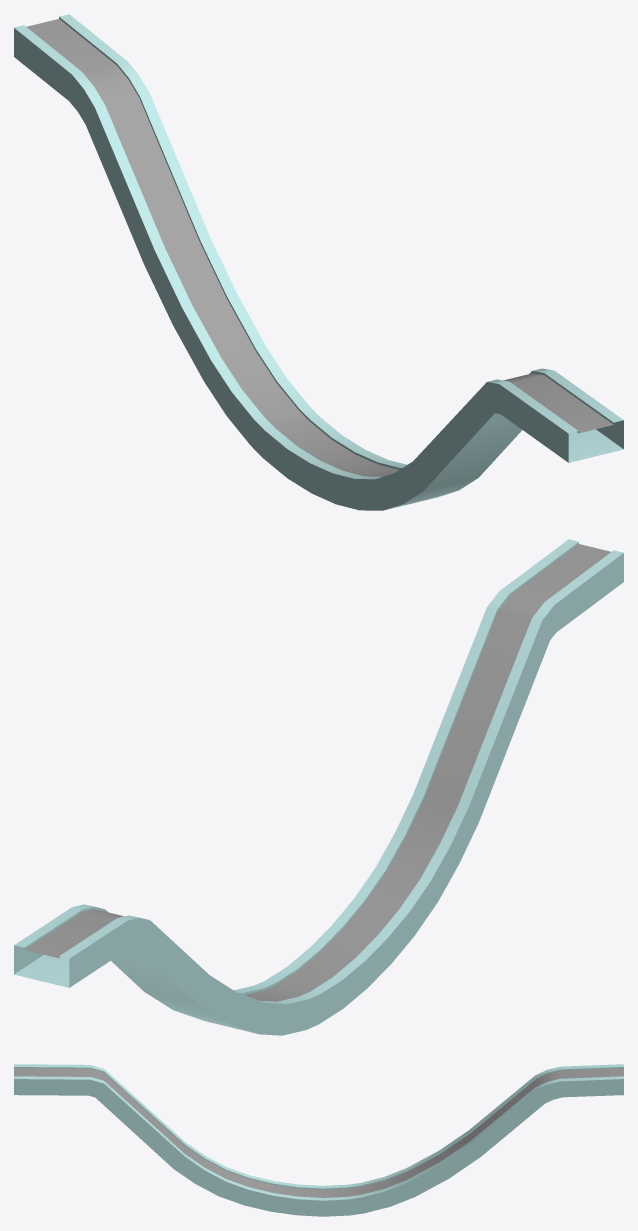
The model's file is hollow.fbx.
3 views of the same model, one above another, from view 1: azimuth 30°, elevation 25°; view 2: azimuth 150°, elevation 25°; view 3: azimuth 270°, elevation 25° (orthographic). The views are drawn at different scales.
Parts seen in each view (by area): view 1: Cube.029; view 2: Cube.029; view 3: Cube.029.
Boxes of the visible parts, x1,y1,x2,y2 form: Cube.029: (14, 14, 623, 510); Cube.029: (14, 539, 623, 1035); Cube.029: (14, 1064, 623, 1216).
Bounding box in the file's own units: 204 × 880 × 3530.
